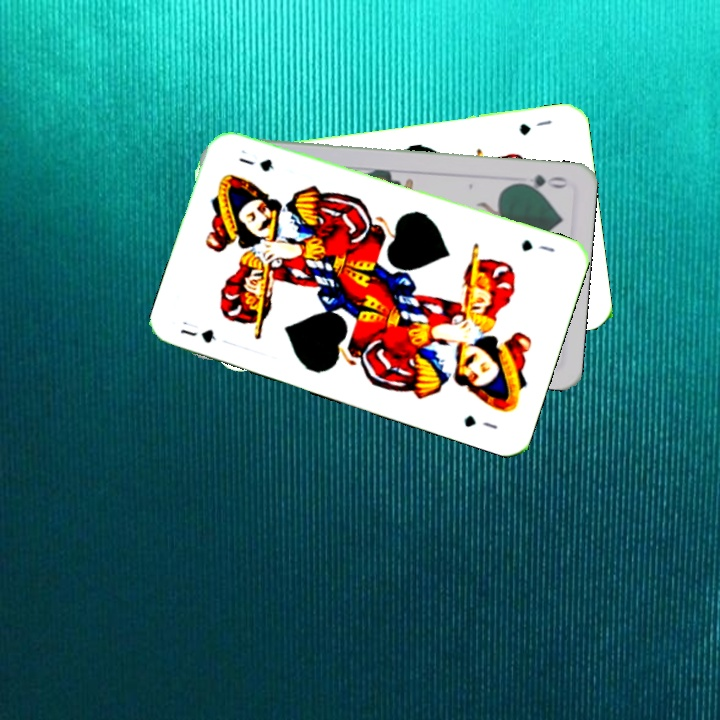GO: (512, 170, 571, 194)
GU: (176, 317, 219, 346), (515, 116, 554, 138), (517, 235, 557, 255)
